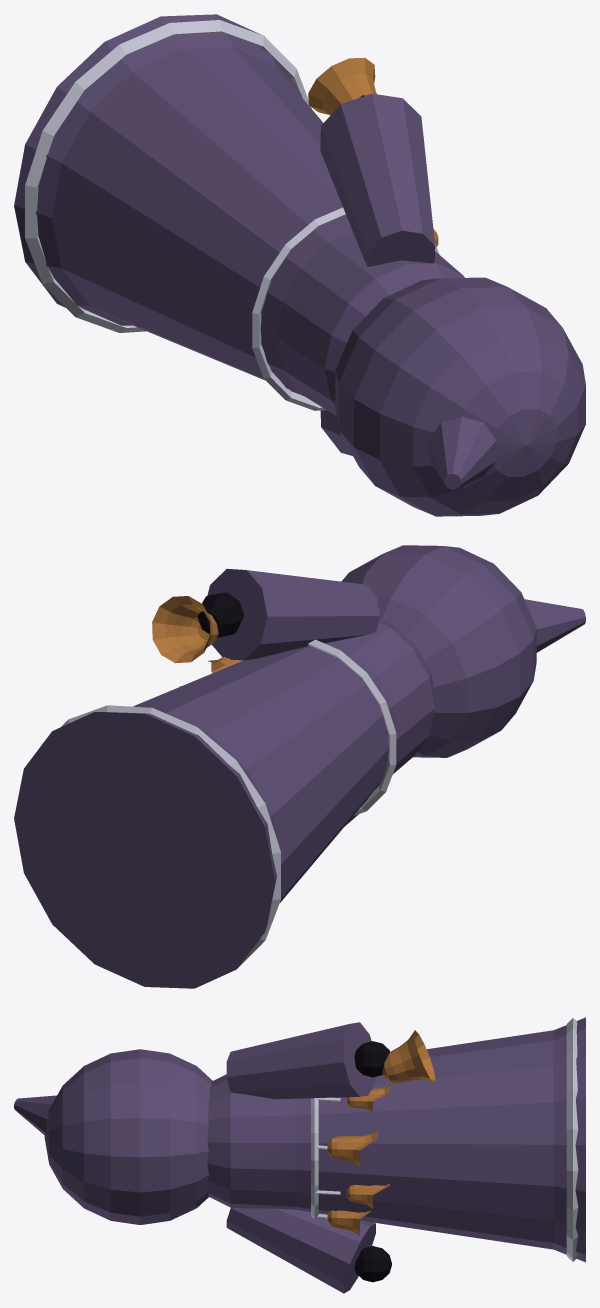
File: Kesh.obj
3 views of the same model, one above another, from view 1: azimuth 30°, elevation 25°; view 2: azimuth 150°, elevation 25°; view 3: azimuth 270°, elevation 25° (orthographic). The views are drawn at different scales.
Parts seen in each view (by area): view 1: Kesh; view 2: Kesh; view 3: Kesh.
Part boxes in pixels (x1,y1,x2,y2): Kesh: [14, 14, 585, 516]; Kesh: [14, 545, 585, 988]; Kesh: [14, 1017, 585, 1293].
Size of the model in its own units: 76 by 91 by 177.
